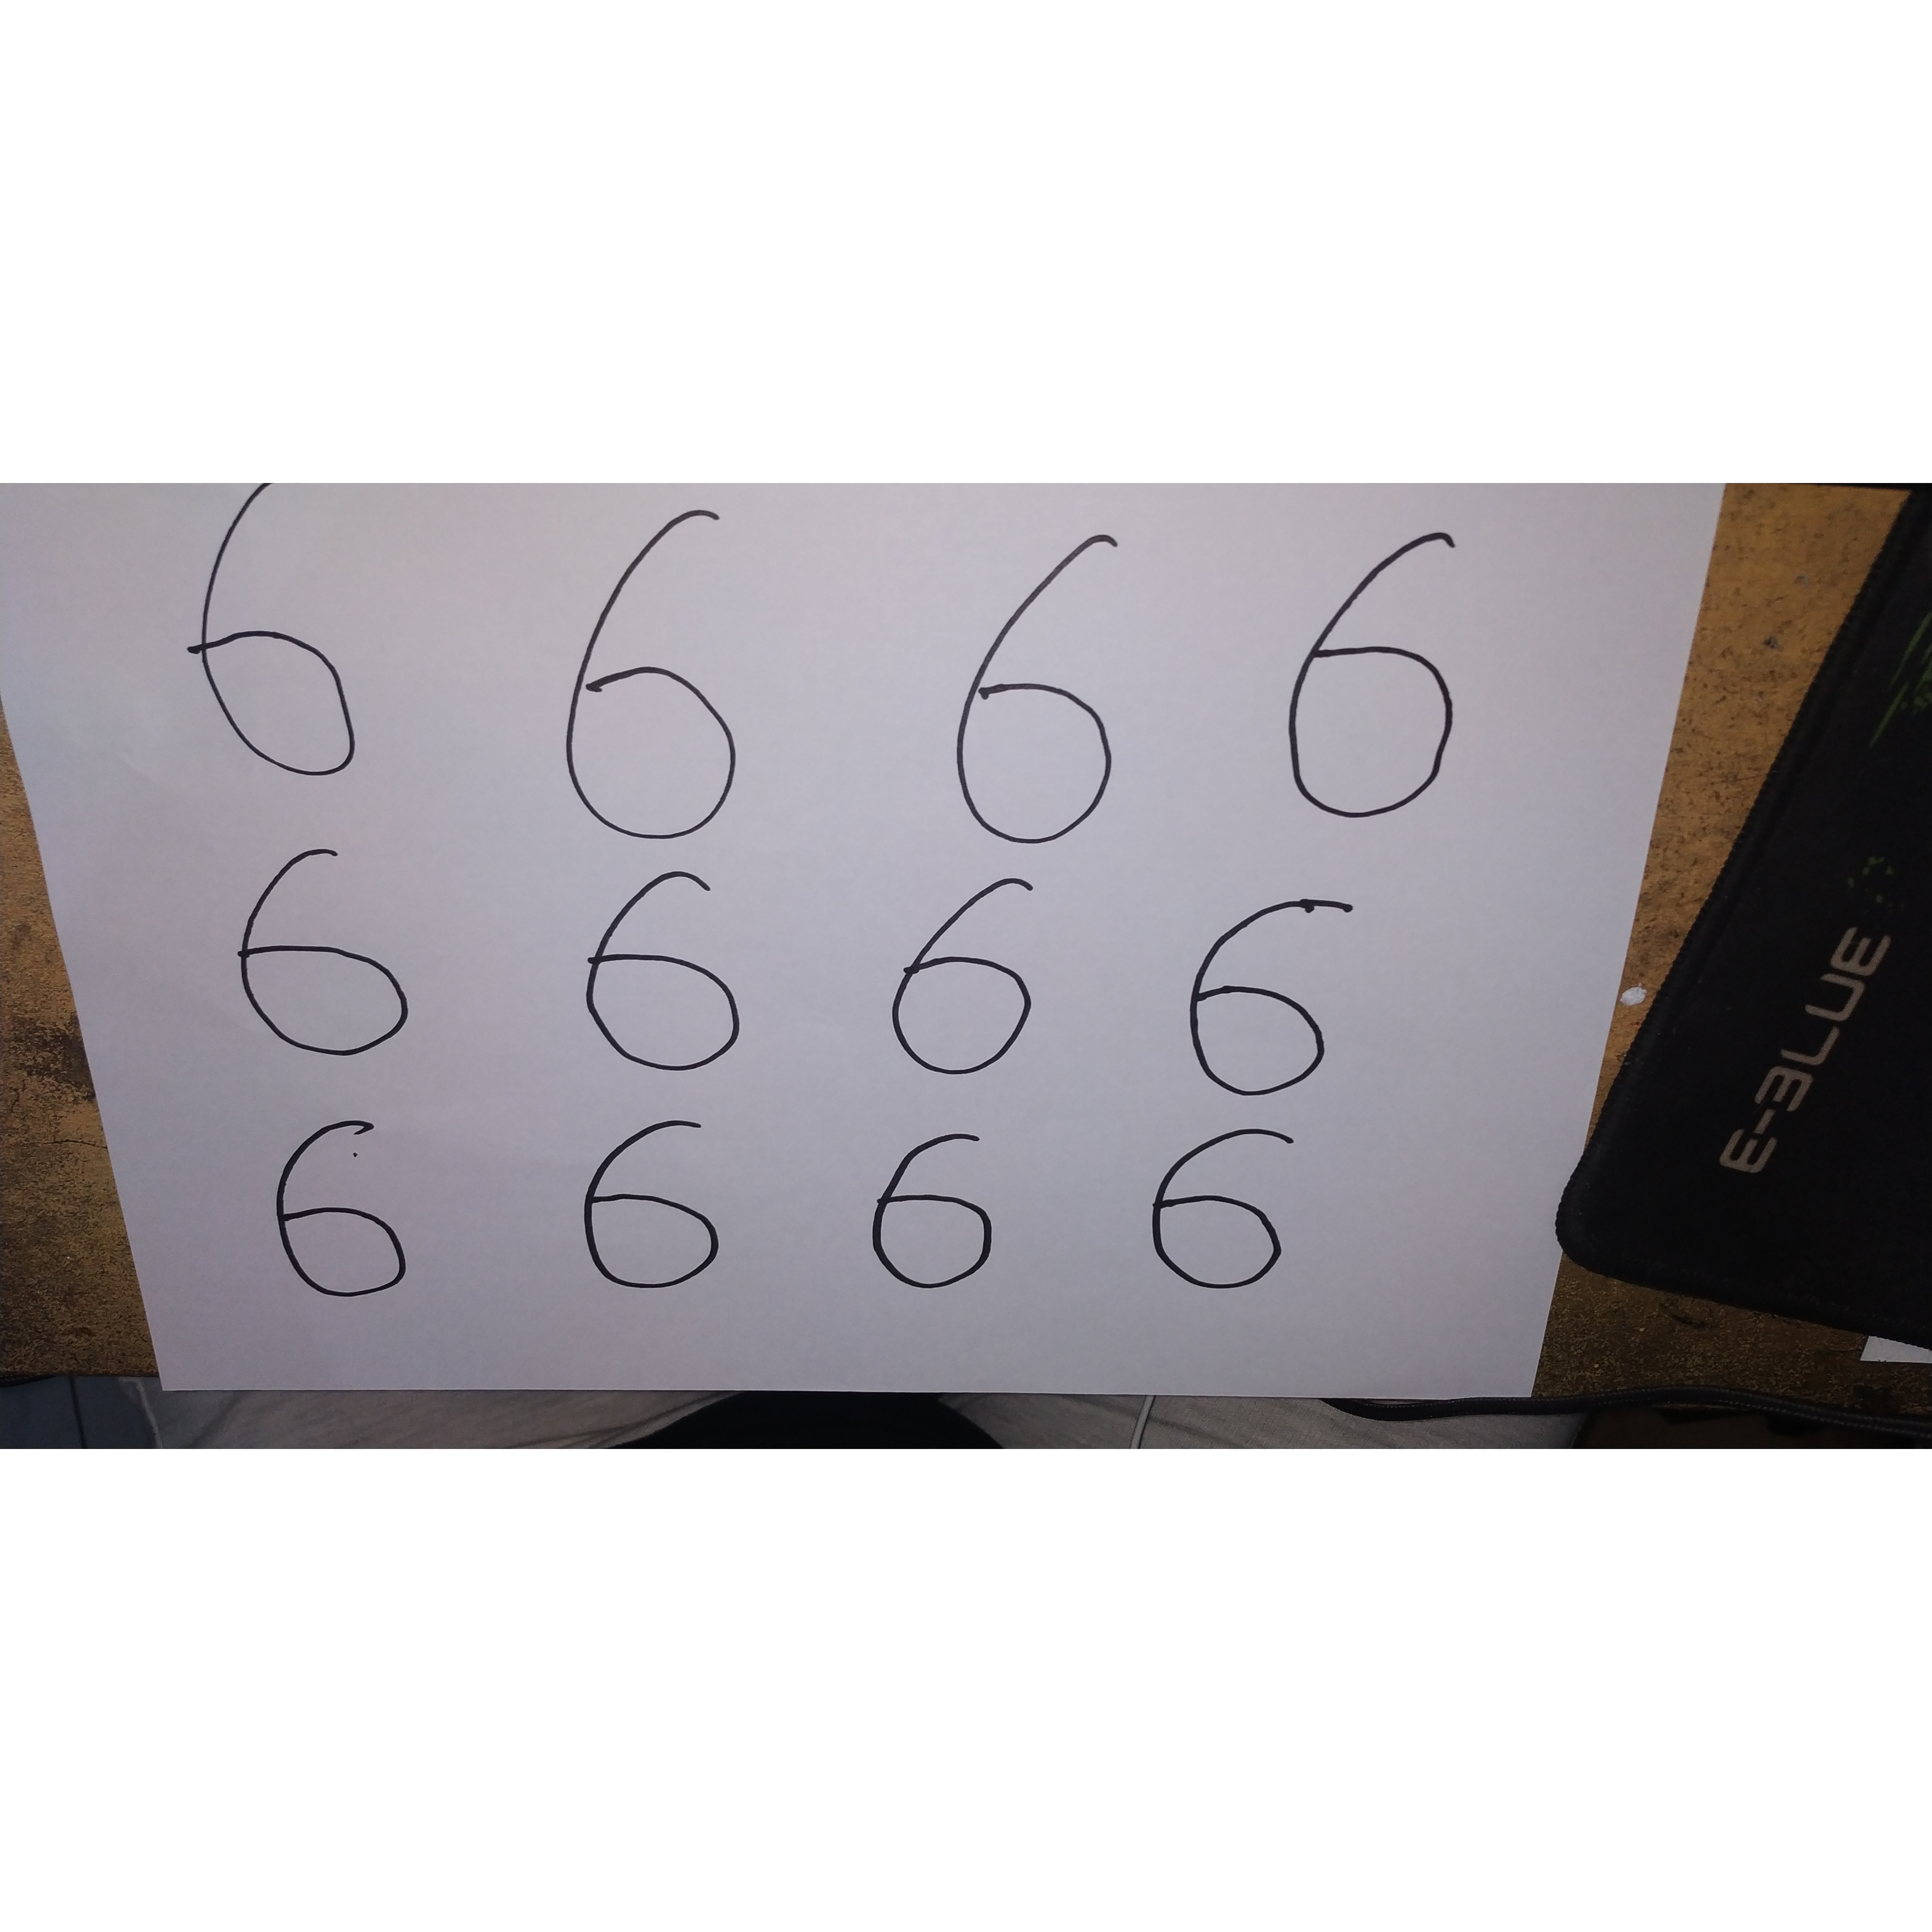num6: (542, 496, 786, 848), (944, 508, 1148, 863), (1273, 510, 1479, 836), (196, 832, 436, 1069), (555, 859, 763, 1096), (1168, 884, 1372, 1113), (246, 1098, 461, 1317), (562, 1111, 763, 1304), (883, 871, 1059, 1083), (1137, 1123, 1320, 1319), (860, 1119, 1019, 1298)
